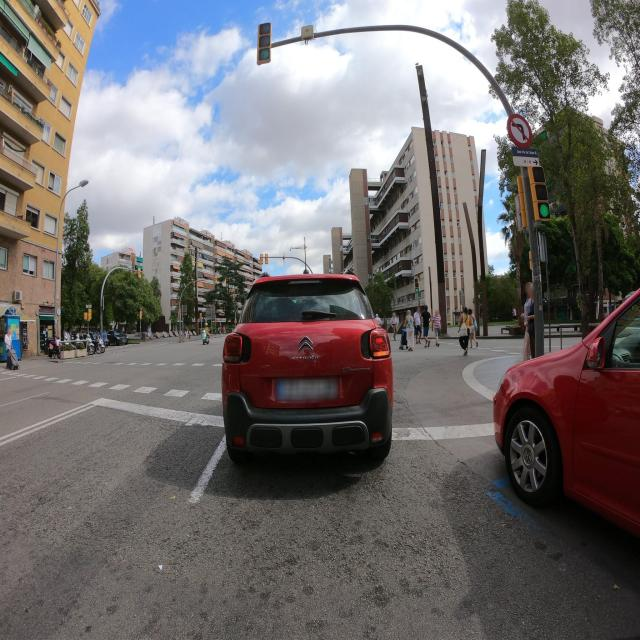bike: (46, 337, 62, 359), (201, 330, 210, 344)
car: (492, 264, 640, 598), (222, 265, 393, 466), (110, 330, 128, 345), (126, 331, 141, 343)
